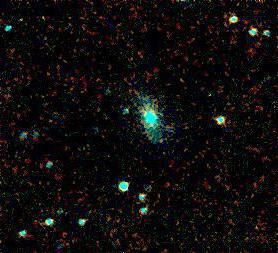star: (9, 6, 39, 36)
